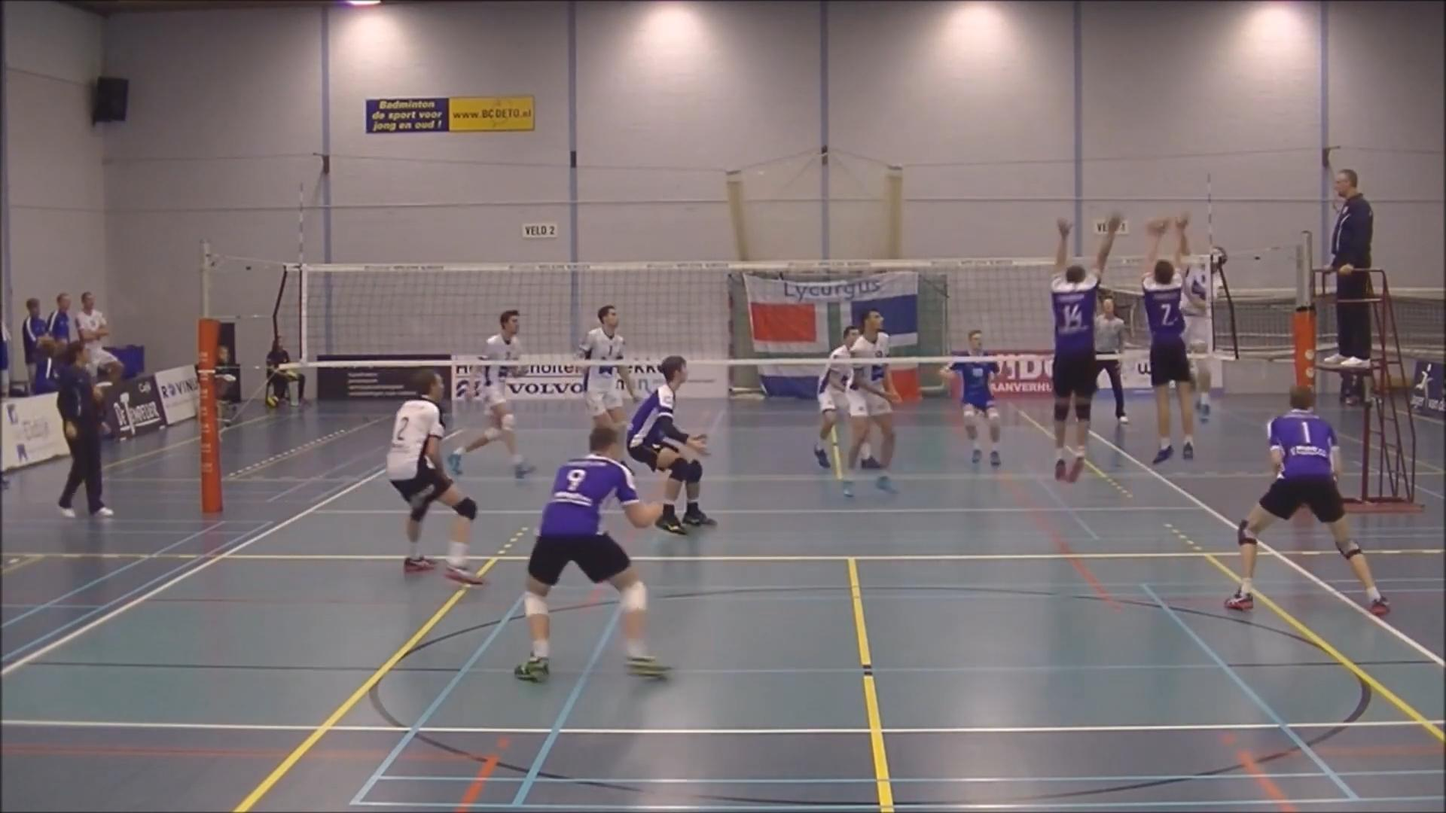attacco: (1166, 202, 1229, 435)
muro: (1122, 210, 1224, 479), (1029, 210, 1118, 483)
